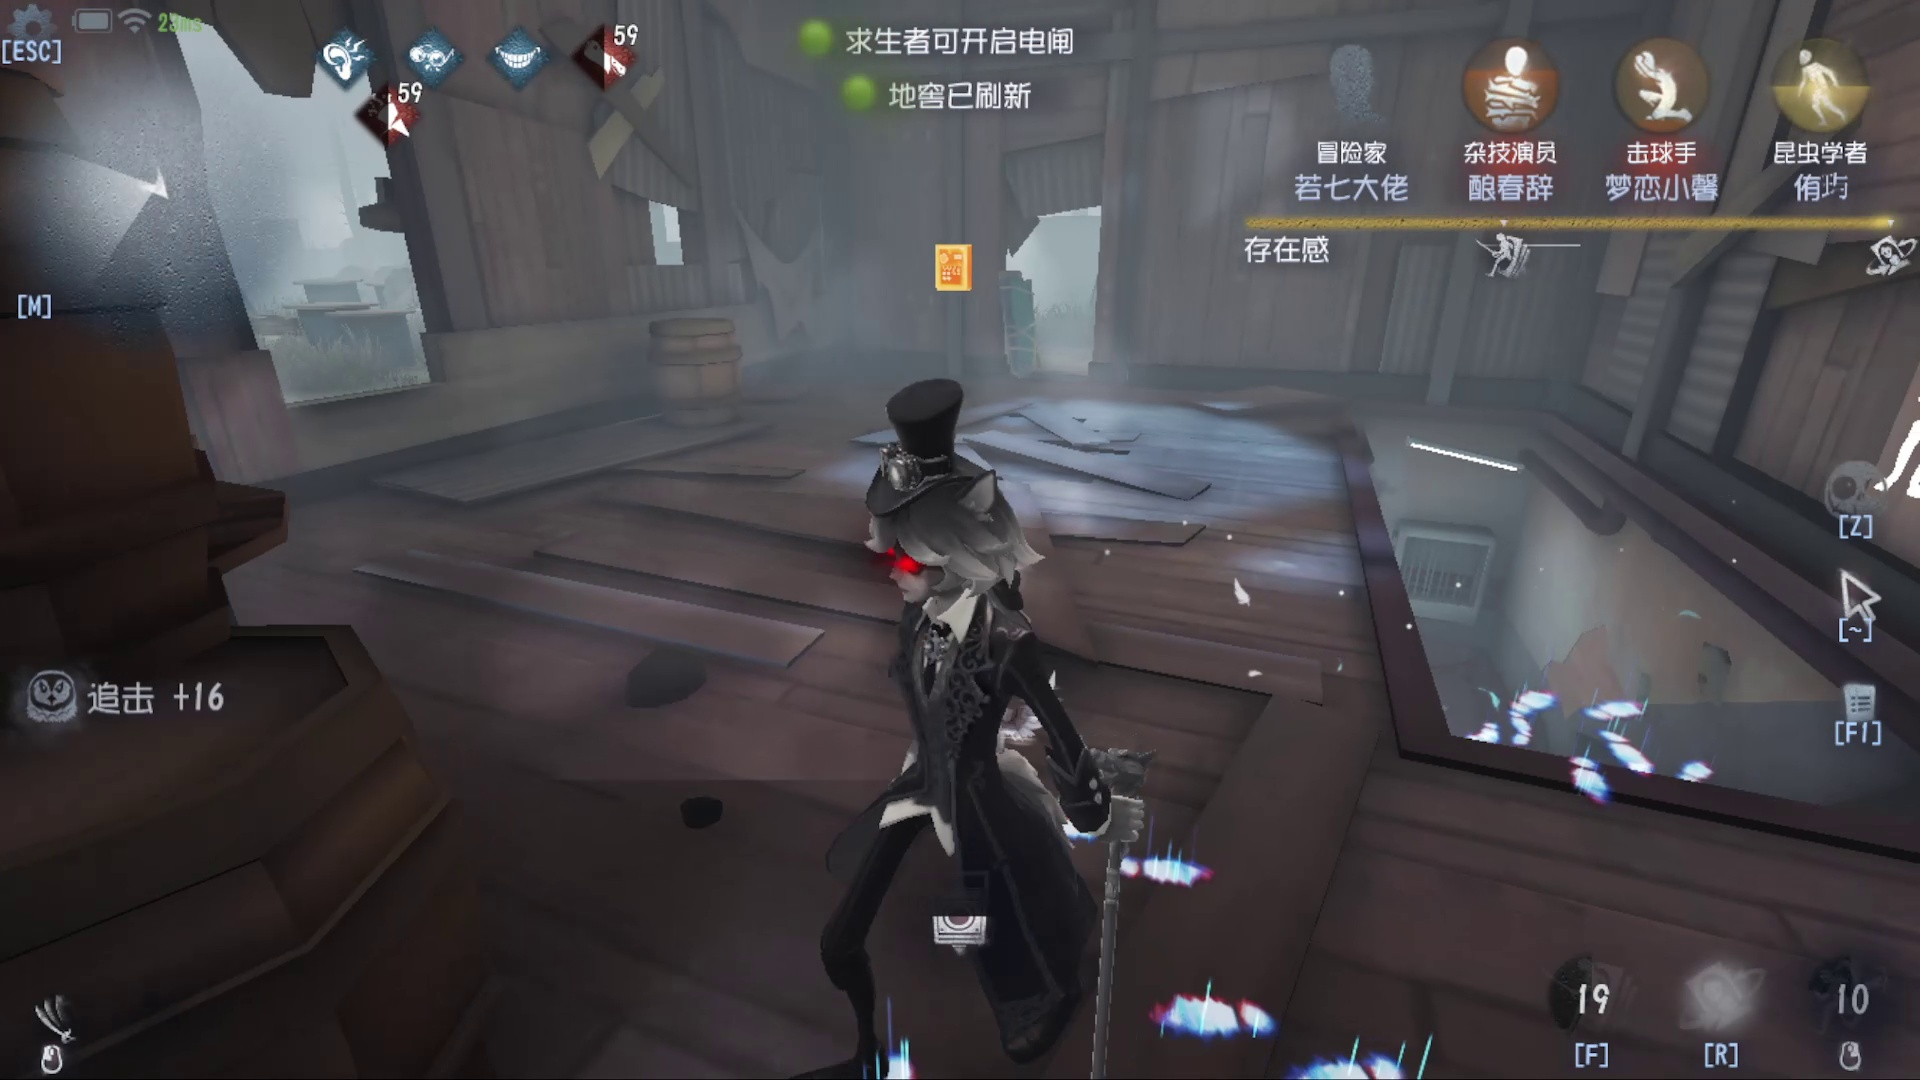狂欢之椅: (992, 258, 1077, 396)
